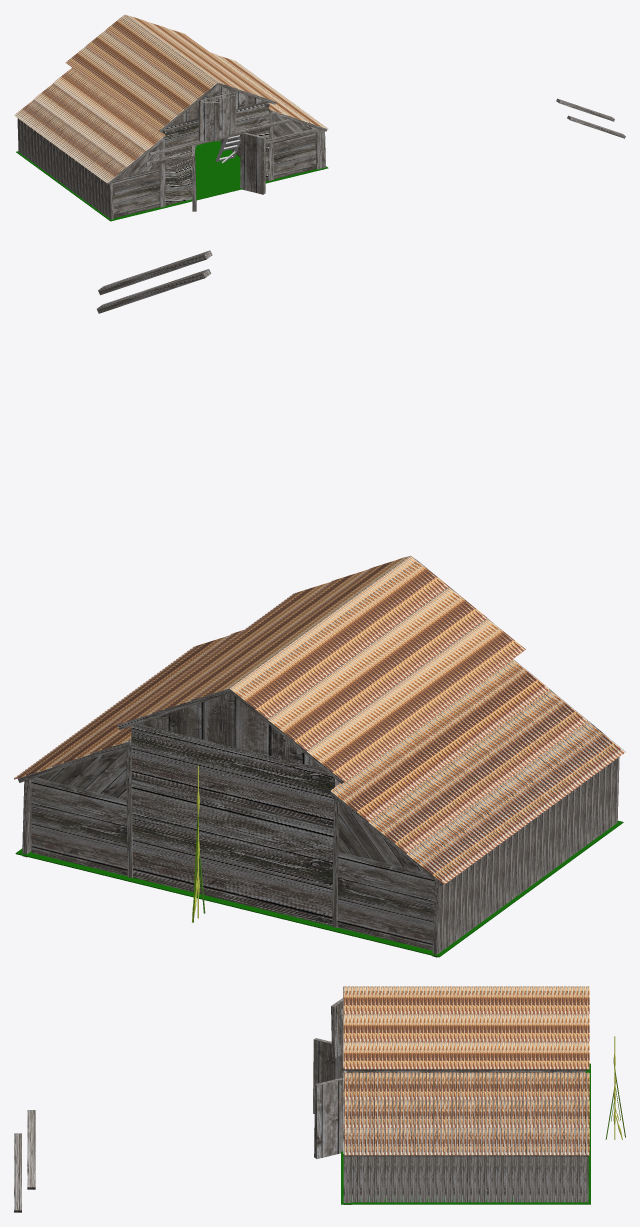
The model's file is ambar(0.8).fbx.
3 views of the same model, one above another, from view 1: azimuth 30°, elevation 25°; view 2: azimuth 150°, elevation 25°; view 3: azimuth 270°, elevation 25° (orthographic). The views are drawn at different scales.
Visible parts, largest first — view 1: Cube.007, Cube.008, Cube.006, Cube.002, Cube.010, Plane, Cube.004, Cube.001, Cube.019, Cube.005, Cube.031, Cylinder.002 (+6 smaller); view 2: Cube.007, Cube.008, Cube.001, Cube.002, Cube.010, Cube.006, Cube.004, Cylinder.002, Plane, Cube.005, Cylinder.001, Cylinder (+3 smaller); view 3: Cube.007, Cube.008, Cube.009, Cube.006, Cube.019, Cube.005, Plane, Cube.002, Cube.018, Cube.004, Cube.017, Cube.016 (+2 smaller).
Boxes of the visible parts, left/top/right/bottom form: Cube.007: left=65, top=14, right=276, bottom=130; Cube.008: left=14, top=52, right=328, bottom=183; Cube.006: left=16, top=64, right=327, bottom=184; Cube.002: left=112, top=99, right=316, bottom=218; Cube.010: left=17, top=118, right=113, bottom=219; Plane: left=16, top=139, right=328, bottom=221; Cube.004: left=162, top=101, right=269, bottom=155; Cube.001: left=165, top=130, right=269, bottom=205; Cube.019: left=240, top=132, right=265, bottom=194; Cube.005: left=86, top=15, right=276, bottom=132; Cube.031: left=159, top=112, right=273, bottom=207; Cylinder.002: left=171, top=85, right=264, bottom=124; Cube.007: left=114, top=555, right=525, bottom=781; Cube.008: left=14, top=630, right=625, bottom=884; Cube.001: left=131, top=779, right=333, bottom=925; Cube.002: left=31, top=777, right=434, bottom=950; Cube.010: left=432, top=756, right=619, bottom=957; Cube.006: left=17, top=637, right=623, bottom=885; Cube.004: left=131, top=724, right=339, bottom=828; Cylinder.002: left=138, top=692, right=322, bottom=768; Plane: left=15, top=820, right=623, bottom=957; Cube.005: left=117, top=556, right=502, bottom=783; Cylinder.001: left=37, top=746, right=127, bottom=799; Cylinder: left=338, top=802, right=423, bottom=871; Cube.007: left=343, top=986, right=589, bottom=1069; Cube.008: left=343, top=1072, right=589, bottom=1155; Cube.009: left=343, top=1155, right=588, bottom=1204; Cube.006: left=343, top=1073, right=588, bottom=1156; Cube.019: left=314, top=1077, right=343, bottom=1158; Cube.005: left=343, top=986, right=587, bottom=1070; Plane: left=341, top=1063, right=590, bottom=1204; Cube.002: left=351, top=1155, right=580, bottom=1199; Cube.018: left=313, top=1038, right=343, bottom=1113; Cube.004: left=346, top=1069, right=584, bottom=1072; Cube.017: left=27, top=1110, right=35, bottom=1189; Cube.016: left=14, top=1133, right=21, bottom=1212.
Bounding box in the file's own units: 5945 × 1903 × 6052.
